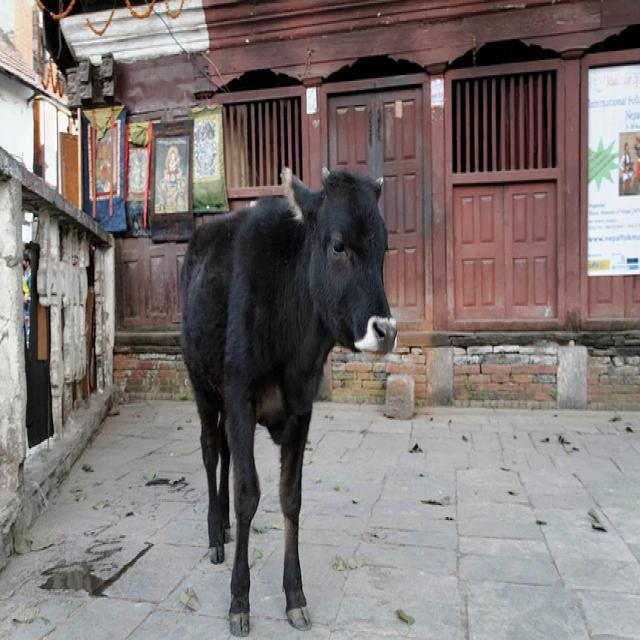cow: (177, 164, 394, 630)
